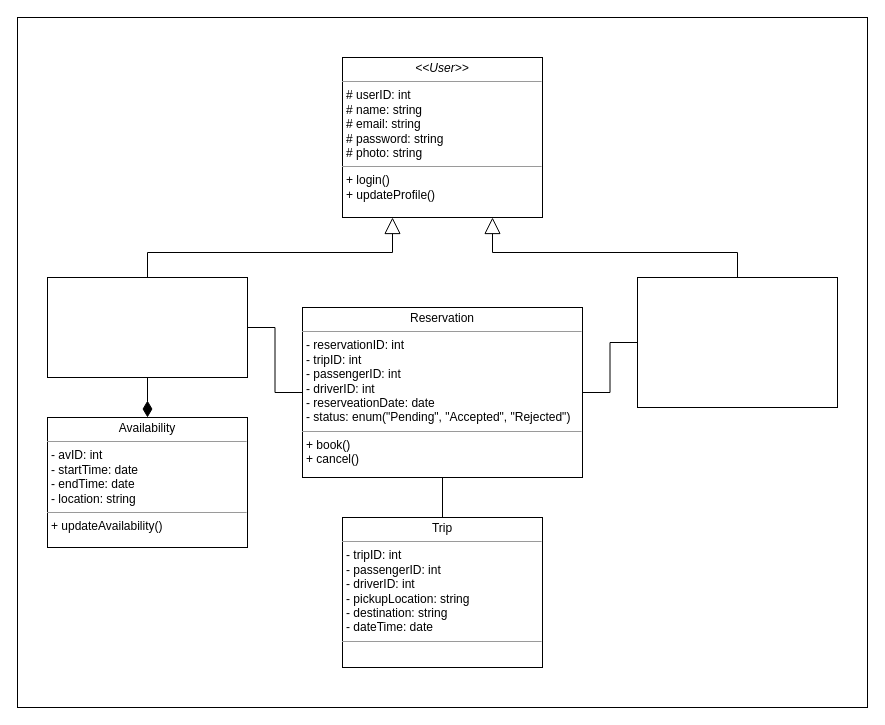
Image size: 885x725. Some labels were removed from this diagram. The shapes that lost their labels are listed below. From the top down, each one's centre as x and y in pixels, then its label:
the point at 147,327: Driver - availability: List<Availability> + manageReservations() + viewHistory()
the point at 737,342: Passenger + bookTrip() + viewHistory() + cancelReservation() + filterDrivers()
